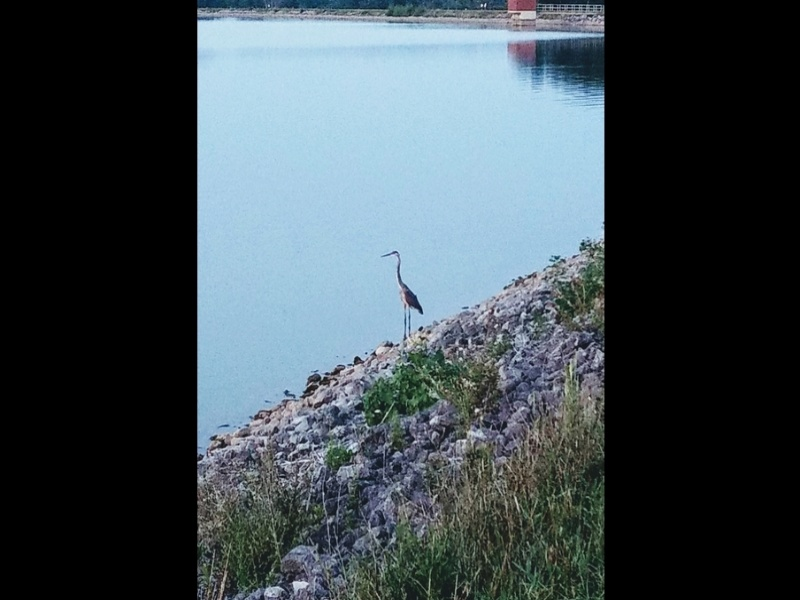heron: (381, 249, 426, 339)
